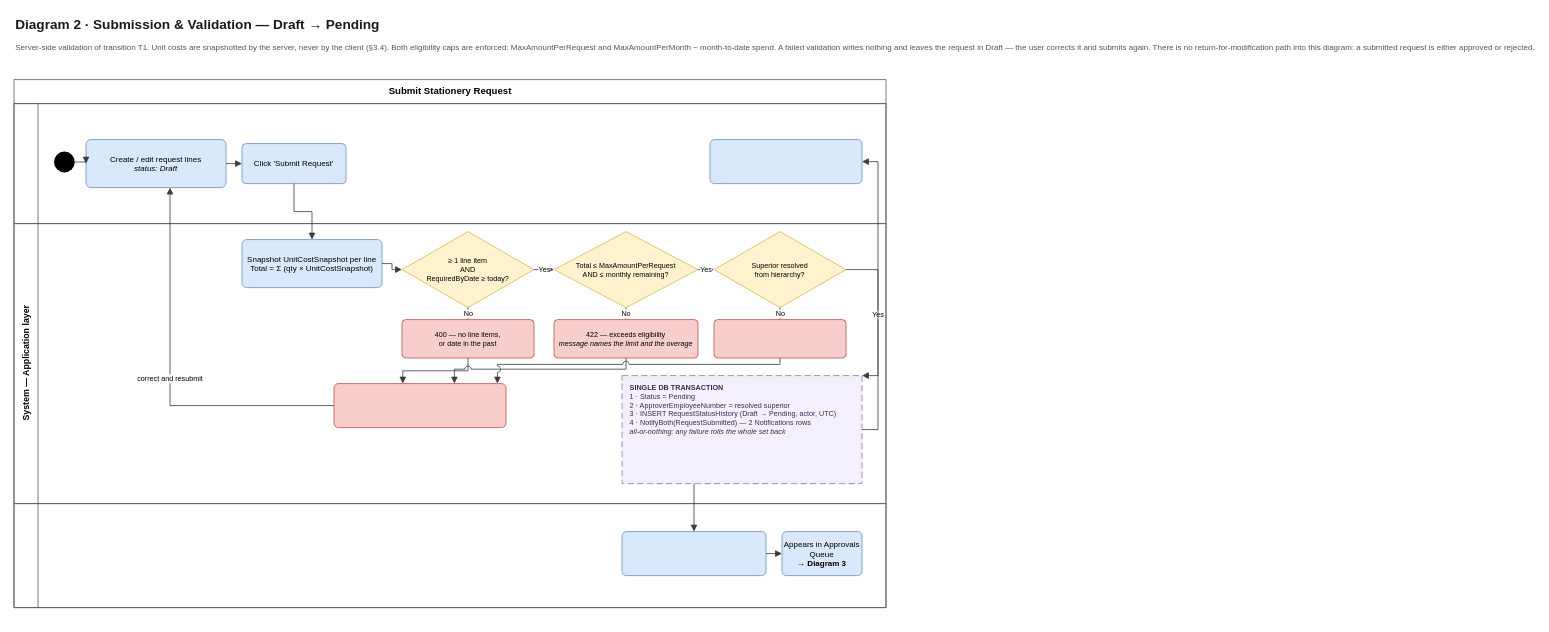
Some shapes in this 1549 by 632 pixel diagram are drawn without their labels. Here are the shapes that lost their labels. From the top down, the box of each, then its label:
(13, 103, 886, 224): Requestor
(709, 139, 862, 184): Receive: Request Submitted
(713, 319, 846, 358): 400 — no superior resolved the MD cannot raise a request
(333, 383, 506, 428): Return errors to the client nothing written · status unchanged
(13, 503, 886, 608): Approver — resolved superior
(621, 531, 766, 576): Receive: New Pending Request
